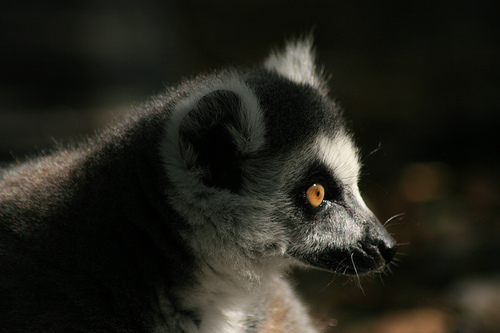cat: (0, 29, 410, 332)
